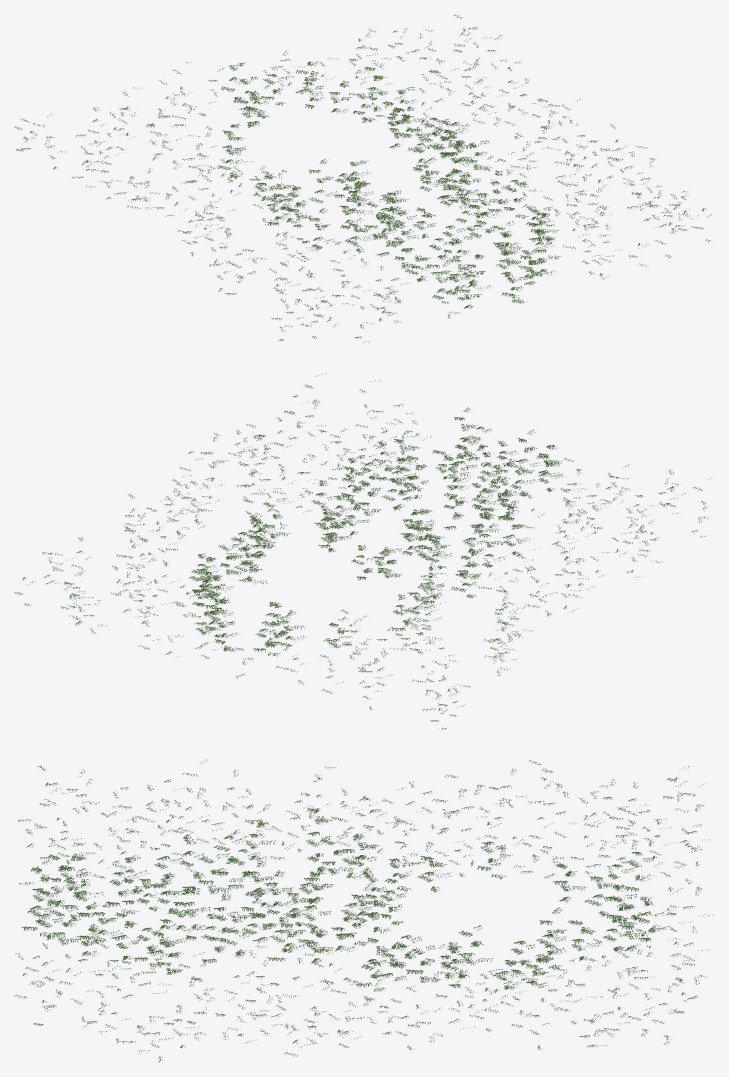
File: bamboo_leaves_0.glb
The picture shows the model from 3 angles, top to bottom: view 1: azimuth 30°, elevation 25°; view 2: azimuth 150°, elevation 25°; view 3: azimuth 270°, elevation 25°; orthographic projection. The views are drawn at different scales.
Parts seen in each view (by area): view 1: bamboo_leaves_00, bamboo_leaves_01, bamboo_leaves_02; view 2: bamboo_leaves_00, bamboo_leaves_01, bamboo_leaves_02; view 3: bamboo_leaves_00, bamboo_leaves_01, bamboo_leaves_02.
Boxes of the visible parts, box(x1,y1,x2,y2) form: bamboo_leaves_00: box(14, 14, 579, 243); bamboo_leaves_01: box(182, 104, 661, 308); bamboo_leaves_02: box(271, 188, 711, 342); bamboo_leaves_00: box(14, 494, 556, 730); bamboo_leaves_01: box(164, 432, 660, 610); bamboo_leaves_02: box(228, 373, 711, 545); bamboo_leaves_00: box(363, 760, 709, 1050); bamboo_leaves_01: box(139, 759, 388, 1056); bamboo_leaves_02: box(14, 765, 184, 1062).
Size of the model in its own units: 82.33 by 10.75 by 94.36.
1 material, 1 textured.
